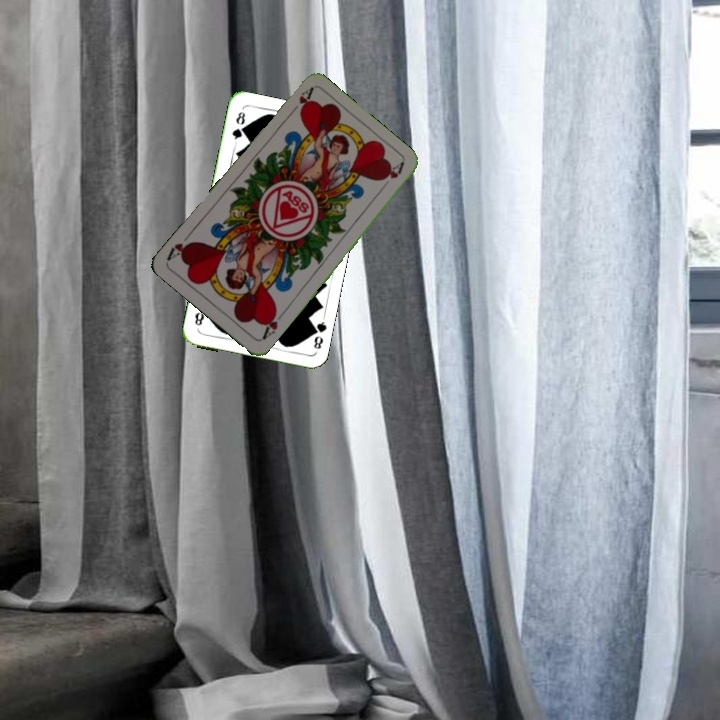G8: (307, 315, 329, 352), (228, 107, 248, 146)
HA: (258, 305, 287, 343), (285, 84, 316, 119)
